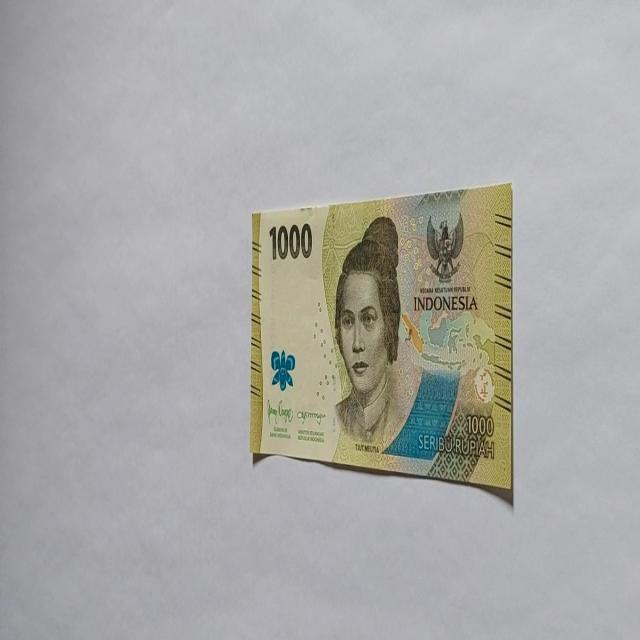seribu rupiah kertas: (248, 182, 514, 502)
